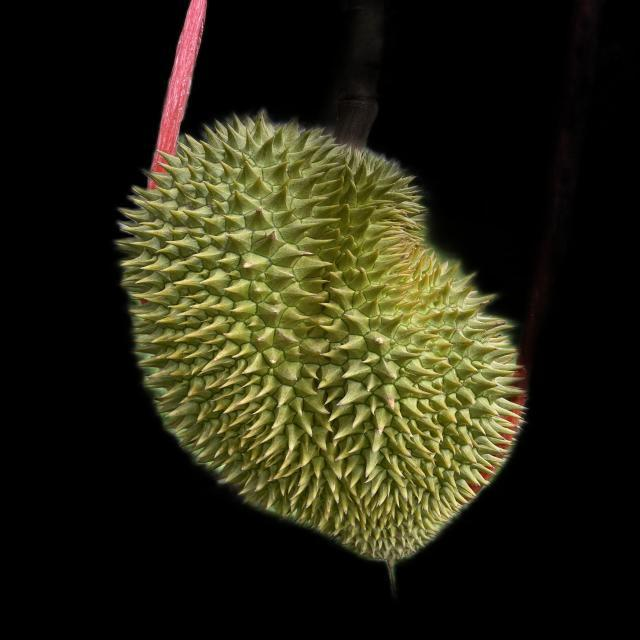immature: (115, 107, 533, 560)
